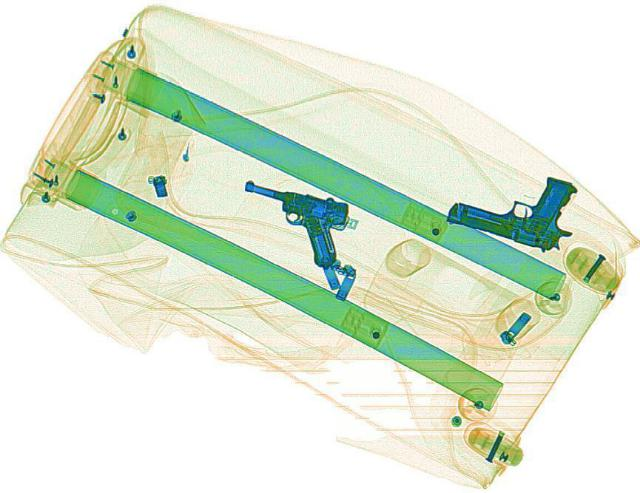Gun: (439, 155, 597, 254), (214, 173, 366, 268)
